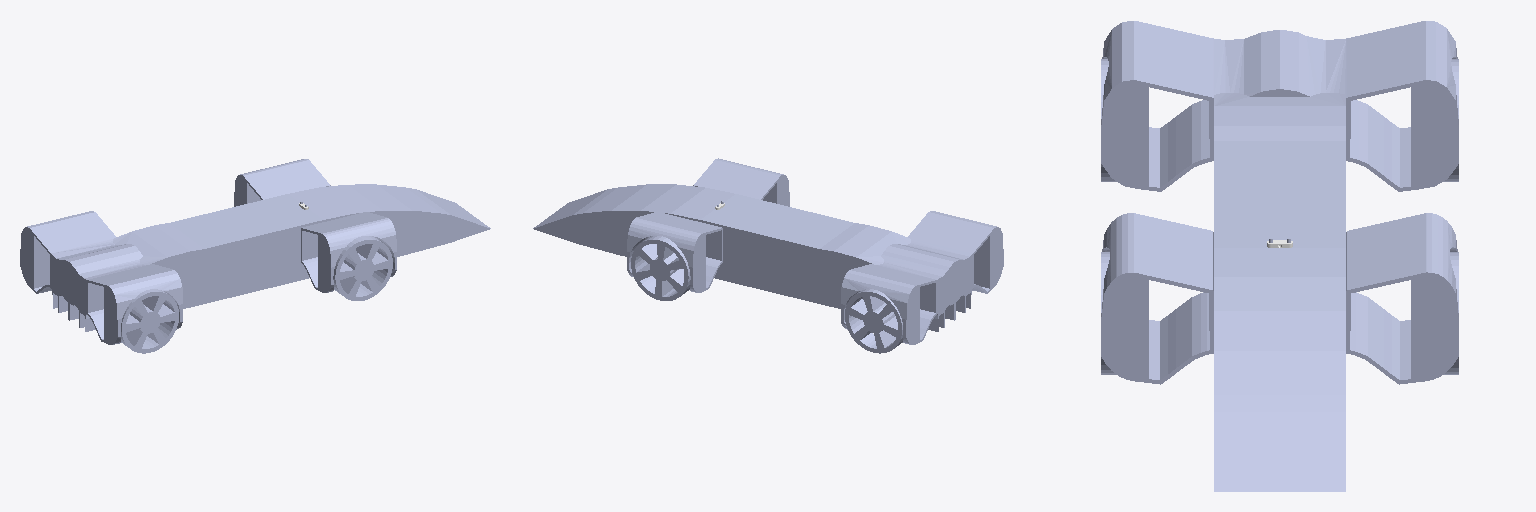
The robot description file, URDF, robot "my_robot":
<?xml version="1.0" encoding="utf-8"?>
<!-- This URDF was automatically created by SolidWorks to URDF Exporter! Originally created by [author] ([email redacted]) 
     Commit Version: 1.6.0-1-g15f4949  Build Version: 1.6.7594.29634
     For more information, please see http://wiki.ros.org/sw_urdf_exporter -->
<robot
  name="my_robot">
  <link
    name="base_link">
    <inertial>
      <origin
        xyz="-0.106265112284959 0.00210013490740678 -0.0142361101145176"
        rpy="0 0 0" />
      <mass
        value="144.435621199277" />
      <inertia
        ixx="2.66112422099869"
        ixy="4.34783624106359E-05"
        ixz="1.41233720620825"
        iyy="37.2151205786951"
        iyz="1.50740696379485E-05"
        izz="38.2736286161732" />
    </inertial>
    <visual>
      <origin
        xyz="0 0 0"
        rpy="0 0 0" />
      <geometry>
        <mesh
          filename="package://my_robot/meshes/base_link.STL" />
      </geometry>
      <material
        name="">
        <color
          rgba="0.792156862745098 0.819607843137255 0.933333333333333 1" />
      </material>
    </visual>
    <collision>
      <origin
        xyz="0 0 0"
        rpy="0 0 0" />
      <geometry>
        <mesh
          filename="package://my_robot/meshes/base_link.STL" />
      </geometry>
    </collision>
  </link>
  <link
    name="front_left_wheel">
    <inertial>
      <origin
        xyz="-1.3878E-16 0.020554 -2.1858E-16"
        rpy="0 0 0" />
      <mass
        value="10.426" />
      <inertia
        ixx="0.064119"
        ixy="-3.7701E-19"
        ixz="2.0432E-17"
        iyy="0.11102"
        iyz="-5.225E-16"
        izz="0.064119" />
    </inertial>
    <visual>
      <origin
        xyz="0 0 0"
        rpy="0 0 0" />
      <geometry>
        <mesh
          filename="package://my_robot/meshes/front_left_wheel.STL" />
      </geometry>
      <material
        name="">
        <color
          rgba="0.79216 0.81961 0.93333 1" />
      </material>
    </visual>
    <collision>
      <origin
        xyz="0 0 0"
        rpy="0 0 0" />
      <geometry>
        <mesh
          filename="package://my_robot/meshes/front_left_wheel.STL" />
      </geometry>
    </collision>
  </link>
  <joint
    name="front_left_wheel_joint"
    type="continuous">
    <origin
      xyz="0.2176 0.34 -0.031041"
      rpy="0 0 0" />
    <parent
      link="base_link" />
    <child
      link="front_left_wheel" />
    <axis
      xyz="0 1 0" />
  </joint>
  <link
    name="back_left_wheel">
    <inertial>
      <origin
        xyz="-2.2204E-16 0.020554 -3.2266E-16"
        rpy="0 0 0" />
      <mass
        value="10.426" />
      <inertia
        ixx="0.064119"
        ixy="3.8659E-18"
        ixz="-7.1542E-17"
        iyy="0.11102"
        iyz="-5.3112E-16"
        izz="0.064119" />
    </inertial>
    <visual>
      <origin
        xyz="0 0 0"
        rpy="0 0 0" />
      <geometry>
        <mesh
          filename="package://my_robot/meshes/back_left_wheel.STL" />
      </geometry>
      <material
        name="">
        <color
          rgba="0.79216 0.81961 0.93333 1" />
      </material>
    </visual>
    <collision>
      <origin
        xyz="0 0 0"
        rpy="0 0 0" />
      <geometry>
        <mesh
          filename="package://my_robot/meshes/back_left_wheel.STL" />
      </geometry>
    </collision>
  </link>
  <joint
    name="back_left_wheel_joint"
    type="continuous">
    <origin
      xyz="-0.82 0.34 -0.031041"
      rpy="0 0 0" />
    <parent
      link="base_link" />
    <child
      link="back_left_wheel" />
    <axis
      xyz="0 1 0" />
  </joint>
  <link
    name="front_right_wheel">
    <inertial>
      <origin
        xyz="-1.1102E-16 -0.020554 -7.2858E-17"
        rpy="0 0 0" />
      <mass
        value="10.426" />
      <inertia
        ixx="0.064119"
        ixy="8.339E-18"
        ixz="-6.9613E-17"
        iyy="0.11102"
        iyz="-5.6072E-19"
        izz="0.064119" />
    </inertial>
    <visual>
      <origin
        xyz="0 0 0"
        rpy="0 0 0" />
      <geometry>
        <mesh
          filename="package://my_robot/meshes/front_right_wheel.STL" />
      </geometry>
      <material
        name="">
        <color
          rgba="0.79216 0.81961 0.93333 1" />
      </material>
    </visual>
    <collision>
      <origin
        xyz="0 0 0"
        rpy="0 0 0" />
      <geometry>
        <mesh
          filename="package://my_robot/meshes/front_right_wheel.STL" />
      </geometry>
    </collision>
  </link>
  <joint
    name="front_right_wheel_joint"
    type="continuous">
    <origin
      xyz="0.2176 -0.3358 -0.031041"
      rpy="0 0 0" />
    <parent
      link="base_link" />
    <child
      link="front_right_wheel" />
    <axis
      xyz="0 1 0" />
  </joint>
  <link
    name="back_right_wheel">
    <inertial>
      <origin
        xyz="-1.1102E-16 -0.020554 -9.3675E-17"
        rpy="0 0 0" />
      <mass
        value="10.426" />
      <inertia
        ixx="0.064119"
        ixy="9.9658E-18"
        ixz="-7.0799E-17"
        iyy="0.11102"
        iyz="1.7217E-18"
        izz="0.064119" />
    </inertial>
    <visual>
      <origin
        xyz="0 0 0"
        rpy="0 0 0" />
      <geometry>
        <mesh
          filename="package://my_robot/meshes/back_right_wheel.STL" />
      </geometry>
      <material
        name="">
        <color
          rgba="0.79216 0.81961 0.93333 1" />
      </material>
    </visual>
    <collision>
      <origin
        xyz="0 0 0"
        rpy="0 0 0" />
      <geometry>
        <mesh
          filename="package://my_robot/meshes/back_right_wheel.STL" />
      </geometry>
    </collision>
  </link>
  <joint
    name="back_right_wheel_joint"
    type="continuous">
    <origin
      xyz="-0.82 -0.3358 -0.031041"
      rpy="0 0 0" />
    <parent
      link="base_link" />
    <child
      link="back_right_wheel" />
    <axis
      xyz="0 1 0" />
  </joint>
  <link
    name="lidar_link">
    <inertial>
      <origin
        xyz="-0.00027715 -3.9031E-18 0.005"
        rpy="0 0 0" />
      <mass
        value="0.016141" />
      <inertia
        ixx="4.2235E-06"
        ixy="-1.9485E-22"
        ixz="3.4687E-23"
        iyy="7.0432E-07"
        iyz="2.1281E-23"
        izz="4.6511E-06" />
    </inertial>
    <visual>
      <origin
        xyz="0 0 0"
        rpy="0 0 0" />
      <geometry>
        <mesh
          filename="package://my_robot/meshes/lidar_link.STL" />
      </geometry>
      <material
        name="">
        <color
          rgba="1 1 1 1" />
      </material>
    </visual>
    <collision>
      <origin
        xyz="0 0 0"
        rpy="0 0 0" />
      <geometry>
        <mesh
          filename="package://my_robot/meshes/lidar_link.STL" />
      </geometry>
    </collision>
  </link>
  <joint
    name="lidar_link_joint"
    type="fixed">
    <origin
      xyz="0.15965 0.0021 0.1103"
      rpy="0 0 0" />
    <parent
      link="base_link" />
    <child
      link="lidar_link" />
    <axis
      xyz="0 0 0" />
  </joint>
<gazebo reference="lidar_link_joint"><preserveFixedJoint>true</preserveFixedJoint></gazebo>
<gazebo reference="lidar_link">
	<sensor name="ray_sensor" type="ray">
		<parent link="lidar_link"/>
		<visualize>true</visualize>
		<ray>
			<scan>
				<horizontal>
					<samples>40</samples>
					<resolution>1.0</resolution>
					<min_angle>-0.6981317</min_angle>
					<max_angle>0.6981317</max_angle>
				</horizontal>
			</scan>
			<range>
				<min>0.81</min>
				<max>50</max>
			</range>
		</ray>
		<plugin name="lidar_controller" filename="libgazebo_ros_laser.so">
			<alwaysOn>true</alwaysOn>
			<updateRate>30</updateRate>
			<topicName>base_scan</topicName>
		<frameName>lidar_link</frameName>
		</plugin>
		<always_on>true</always_on>
		<update_rate>1.0</update_rate>

	</sensor>
</gazebo>
<link
    name="camera_link">
    <inertial>
      <origin
        xyz="-0.00027715 -4.3368E-18 0.005"
        rpy="0 0 0" />
      <mass
        value="0.016141" />
      <inertia
        ixx="4.2235E-06"
        ixy="-1.9711E-22"
        ixz="-3.677E-23"
        iyy="7.0432E-07"
        iyz="-1.4426E-22"
        izz="4.6511E-06" />
    </inertial>
    <visual>
      <origin
        xyz="0 0 0"
        rpy="0 0 0" />
      <geometry>
        <mesh
          filename="package://my_robot/meshes/camera_link.STL" />
      </geometry>
      <material
        name="">
        <color
          rgba="0.79216 0.81961 0.93333 1" />
      </material>
    </visual>
    <collision>
      <origin
        xyz="0 0 0"
        rpy="0 0 0" />
      <geometry>
        <mesh
          filename="package://my_robot/meshes/camera_link.STL" />
      </geometry>
    </collision>
  </link>
  <joint
    name="camera_link_joint"
    type="fixed">
    <origin
      xyz="0 0 0.01"
      rpy="0 0 0" />
    <parent
      link="lidar_link" />
    <child
      link="camera_link" />
    <axis
      xyz="0 0 0" />
  </joint>
<gazebo reference="camera_link_joint"><preserveFixedJoint>true</preserveFixedJoint></gazebo>
<gazebo reference="camera_link">
      <sensor type="camera" name="camera_sensor">
        <parent link="camera_link"/>
	<update_rate>30.0</update_rate>
	<visualize>true</visualize>
        <camera>
          <horizontal_fov>1.3962634</horizontal_fov>
          <image>
            <format>R8G8B8</format>
            <width>640</width>
            <height>480</height>
          </image>
          <clip>
            <near>0.81</near>
            <far>50</far>
          </clip>
        </camera>

        <plugin name="camera_controller" filename="libgazebo_ros_camera.so">
          <cameraName>front_camera</cameraName>
          <alwaysOn>true</alwaysOn>
          <updateRate>0.0</updateRate>
          <imageTopicName>image_raw</imageTopicName>
          <cameraInfoTopicName>camera_info</cameraInfoTopicName>
          <frameName>camera_link</frameName>
        </plugin>
      </sensor>
    </gazebo> 
    
    
    <gazebo>
  <plugin name="skid_drive_controller" filename="libgazebo_ros_skid_steer_drive.so">

    <updateRate>100.0</updateRate>
    <robotNamespace>/my_robot</robotNamespace>
    <commandTopic>cmd_vel</commandTopic>
    <torque>50</torque>
    <leftFrontJoint>front_left_wheel_joint</leftFrontJoint>
    <rightFrontJoint>front_right_wheel_joint</rightFrontJoint>
    <leftRearJoint>back_left_wheel_joint</leftRearJoint>
    <rightRearJoint>back_right_wheel_joint</rightRearJoint>
    <wheelSeparation>0.72</wheelSeparation>
    <wheelDiameter>0.28</wheelDiameter>
    <wheelAcceleration>1.0</wheelAcceleration>
    <odometryTopic>odom</odometryTopic>
    <odometryFrame>odom</odometryFrame>
    <robotBaseFrame>base_link</robotBaseFrame>
    <broadcastTF>false</broadcastTF>
  </plugin>
</gazebo>
</robot>

--- What the picture shows (computed from the rendered views, not written in the file) ---
Views: 3 orthographic renders of the robot side by side, from view 1: azimuth 30°, elevation 25°; view 2: azimuth 150°, elevation 25°; view 3: azimuth 270°, elevation 25°.
Robot: my_robot — 7 links, 6 joints (4 continuous, 2 fixed); root link base_link; default pose: every joint at zero.
Links seen in each view (by area): view 1: base_link, front_right_wheel, back_right_wheel; view 2: base_link, front_left_wheel, back_left_wheel; view 3: base_link.
Boxes of the visible links, bbox=[...] form: base_link: bbox=[20, 159, 490, 344]; front_right_wheel: bbox=[333, 236, 392, 300]; back_right_wheel: bbox=[121, 289, 178, 353]; base_link: bbox=[533, 158, 1003, 344]; front_left_wheel: bbox=[631, 236, 690, 300]; back_left_wheel: bbox=[845, 289, 902, 353]; base_link: bbox=[1101, 21, 1458, 491].
Bounding box of the posed robot: 1.96 × 0.8158 × 0.3171 m (x, y, z).
6 mesh visuals loaded from 7 distinct referenced files (6 binary STL); not drawn: 1 (reference not matched to a file when rendering).
